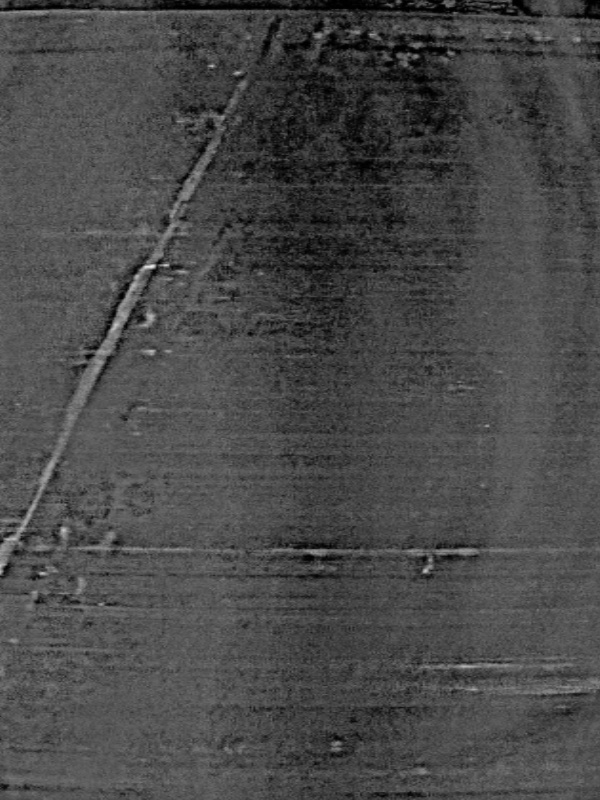splice_vulcanized: (1, 10, 319, 651)
